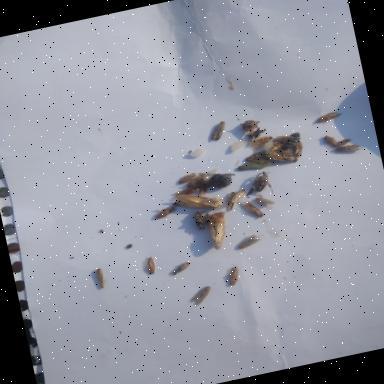abw: (203, 206, 230, 252)
pbw: (266, 144, 300, 168), (237, 194, 265, 221), (185, 284, 214, 307), (206, 119, 230, 142), (223, 260, 244, 286), (235, 230, 263, 249), (314, 108, 344, 125), (244, 134, 274, 150), (319, 130, 342, 150), (254, 192, 276, 212), (334, 140, 364, 154), (153, 204, 178, 220), (222, 190, 240, 212), (168, 260, 192, 276), (142, 252, 158, 275), (176, 170, 200, 184), (288, 138, 306, 156), (228, 187, 248, 203), (94, 266, 107, 289), (271, 132, 294, 144)
